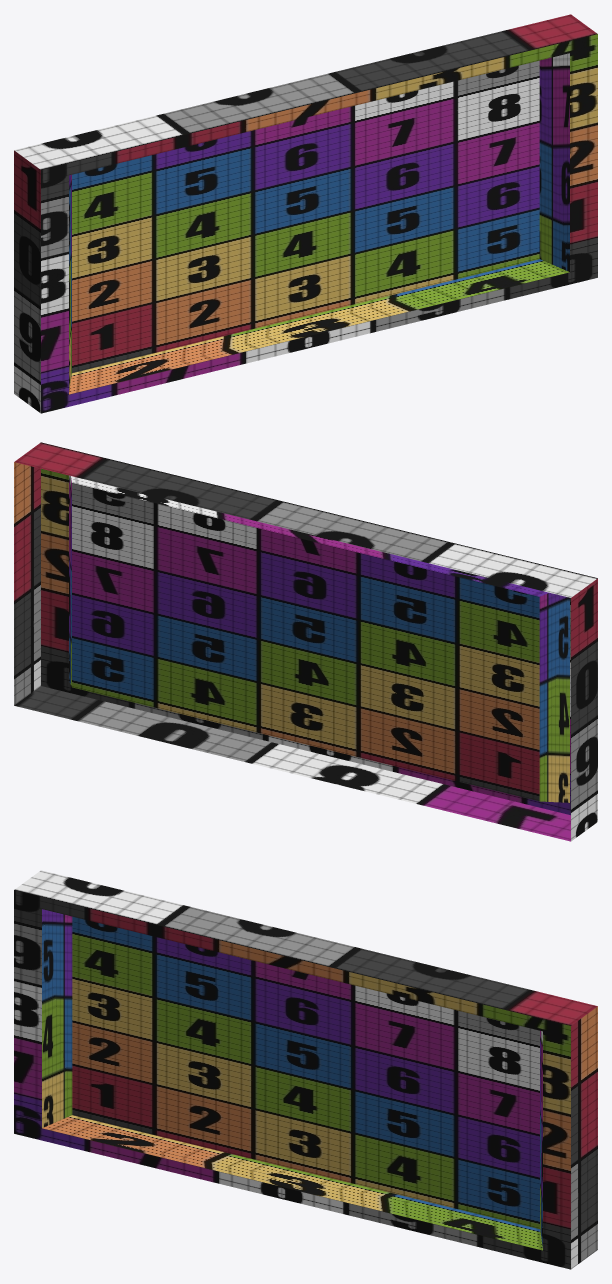
3 views of the same model, one above another, from view 1: azimuth 30°, elevation 25°; view 2: azimuth 150°, elevation 25°; view 3: azimuth 330°, elevation 25° (orthographic).
Parts seen in each view (by area): view 1: TV10; view 2: TV10; view 3: TV10.
Boxes of the visible parts, x1=… form: TV10: x1=14, y1=14, x2=597, y2=413; TV10: x1=14, y1=442, x2=597, y2=841; TV10: x1=14, y1=870, x2=597, y2=1269.
Bounding box in the file's own units: 72.29 × 30.21 × 6.07.
1 material, 1 textured.
